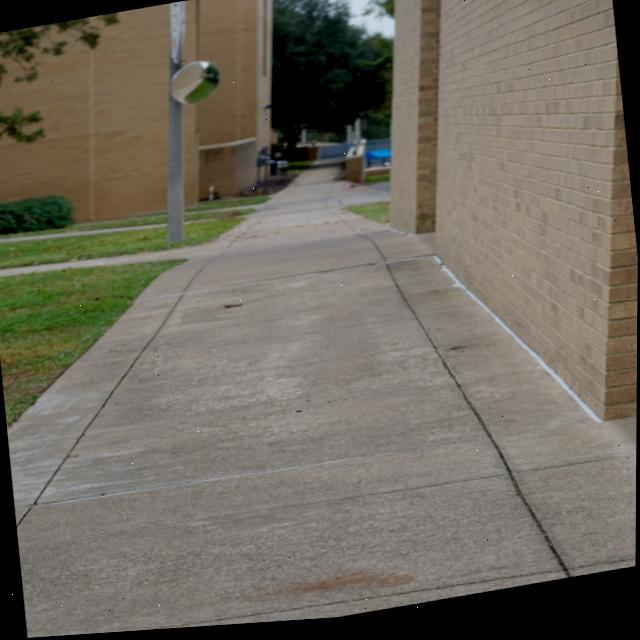Sidewalk: (0, 171, 637, 638), (0, 226, 162, 243)
